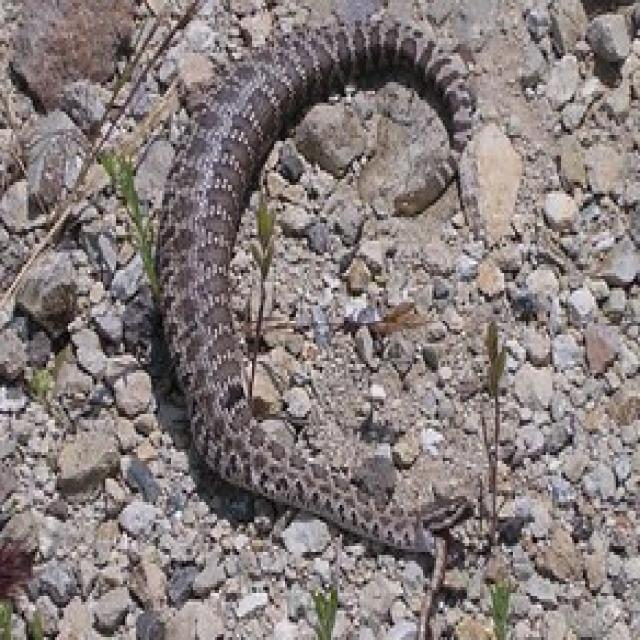Snake: (151, 9, 480, 558)
